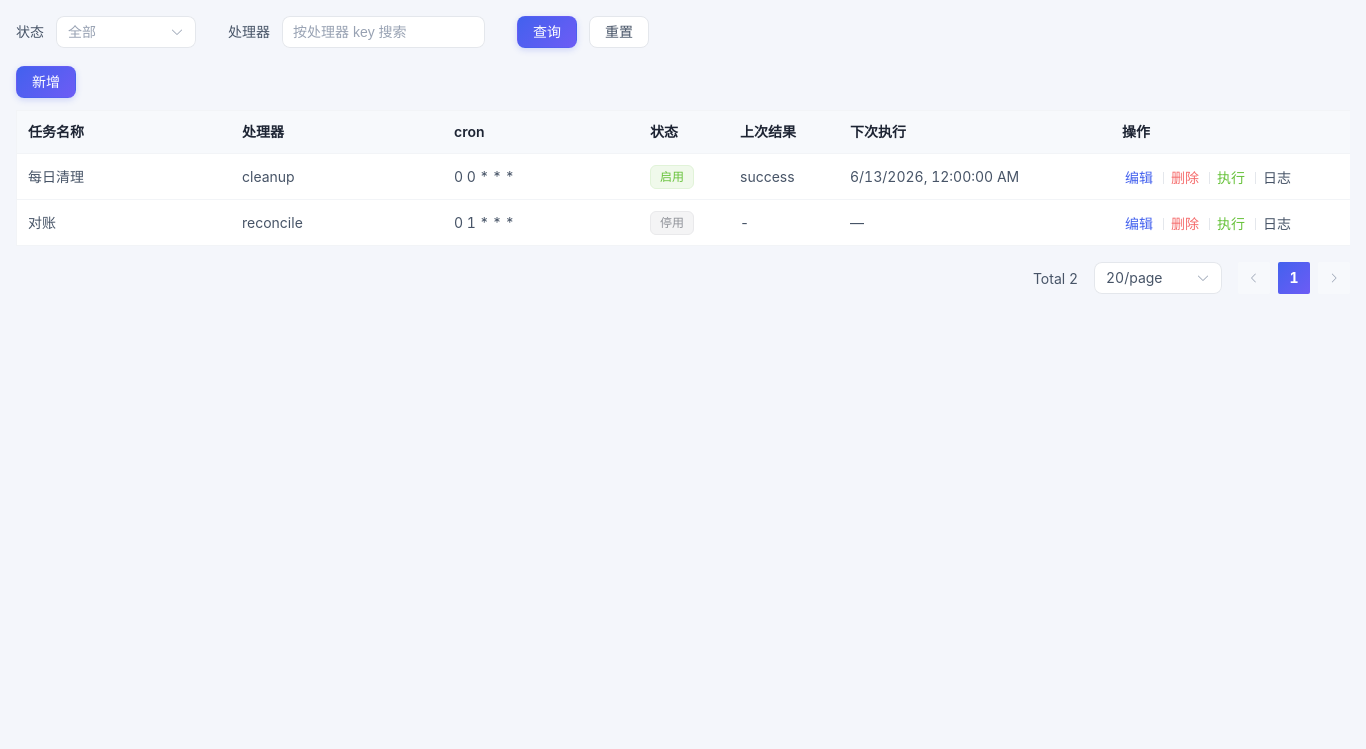
定时任务管理页 › 点新增 → 打开对话框（新增任务标题）
Step 1. Click the button "新增" → (46, 82), box [16, 66, 76, 98]
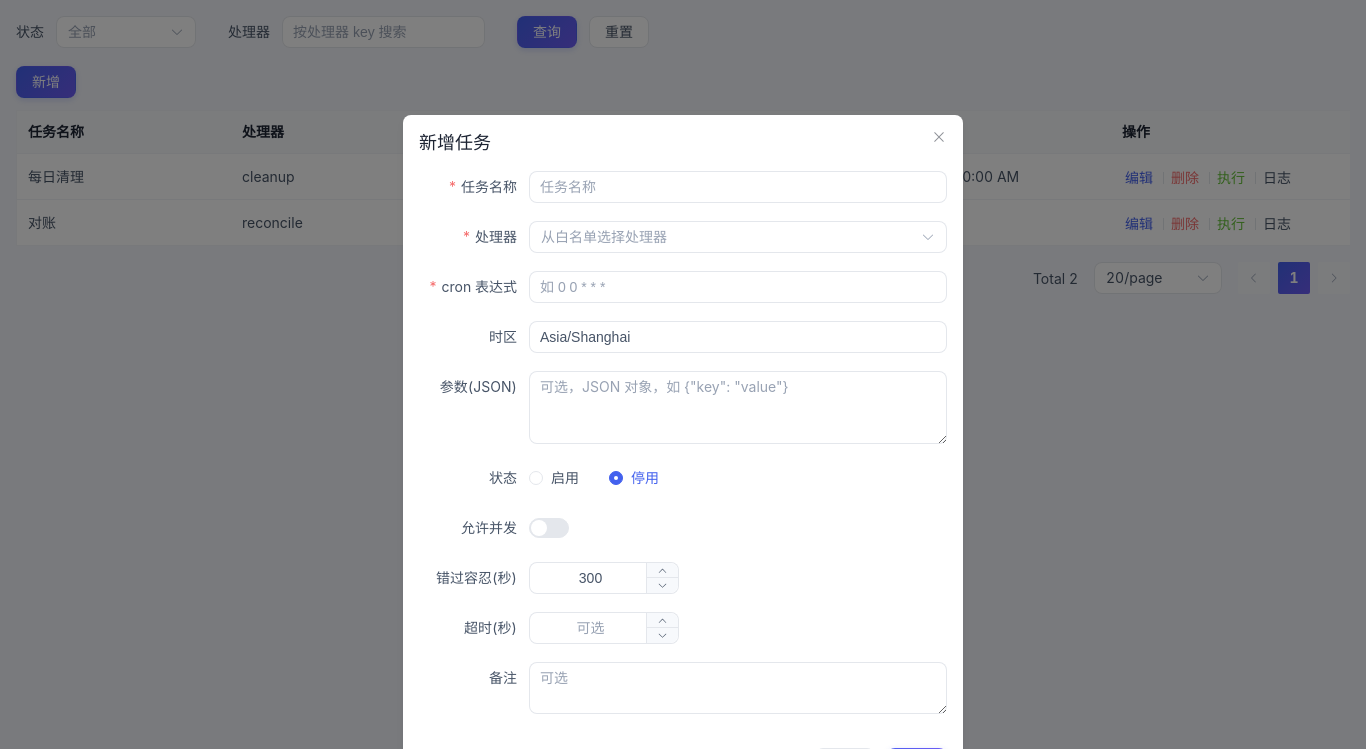
Check: the text "新增任务" is shown, box [419, 132, 491, 153]
